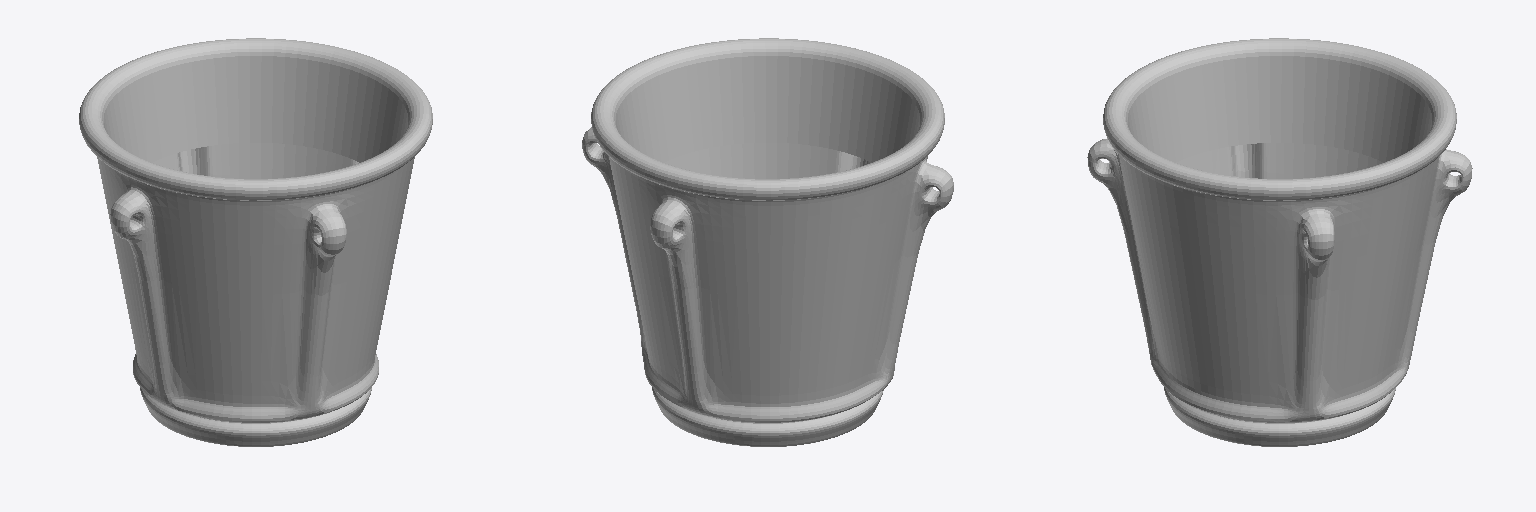
File: flower_pot.obj
3 views of the same model, side by side, from view 1: azimuth 30°, elevation 25°; view 2: azimuth 150°, elevation 25°; view 3: azimuth 270°, elevation 25° (orthographic).
Parts seen in each view (by area): view 1: Arch41_008; view 2: Arch41_008; view 3: Arch41_008.
Boxes of the visible parts, x1=… form: Arch41_008: x1=79, y1=38, x2=432, y2=446; Arch41_008: x1=582, y1=38, x2=953, y2=446; Arch41_008: x1=1087, y1=38, x2=1472, y2=446.
Size of the model in its own units: 0.173 by 0.1482 by 0.1771.